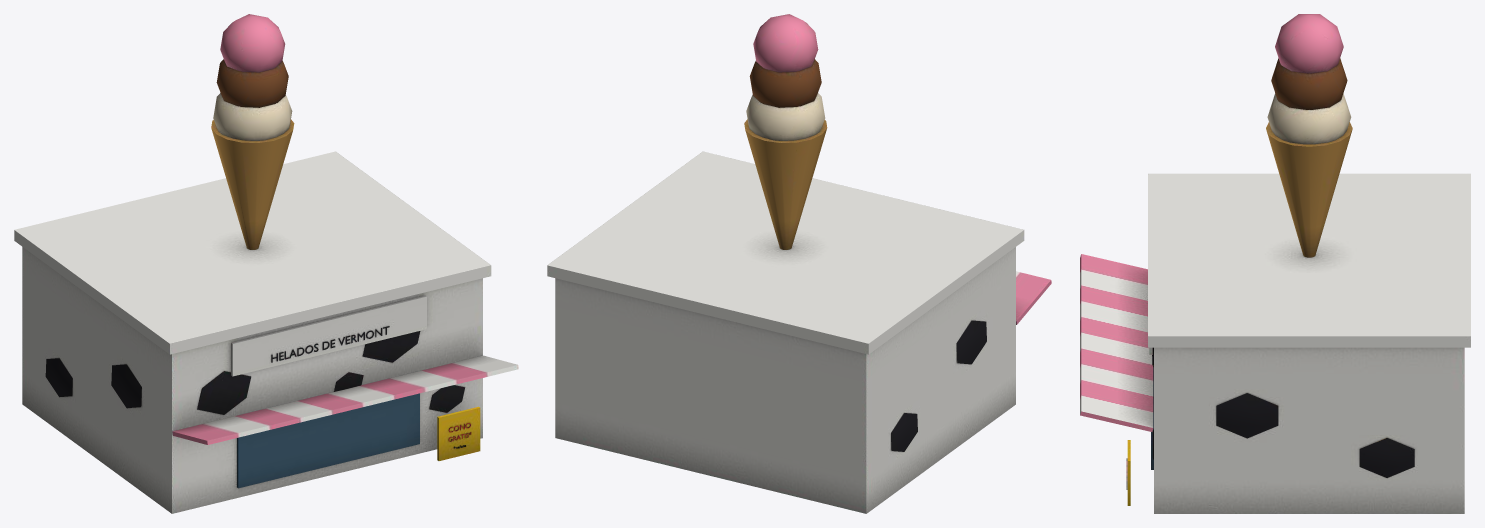
The model's file is heladeria_vaca.glb.
3 renders of one model, left to right at view 1: azimuth 30°, elevation 25°; view 2: azimuth 150°, elevation 25°; view 3: azimuth 270°, elevation 25°, orthographic. The views are drawn at different scales.
Parts seen in each view (by area): view 1: heladeria_vaca; view 2: heladeria_vaca; view 3: heladeria_vaca.
Boxes of the visible parts, <box> form: heladeria_vaca: <box>14,14,518,513</box>; heladeria_vaca: <box>547,14,1051,513</box>; heladeria_vaca: <box>1080,14,1470,513</box>.
Bounding box in the file's own units: 12.4 × 14.91 × 12.58.
1 material, 1 textured.
